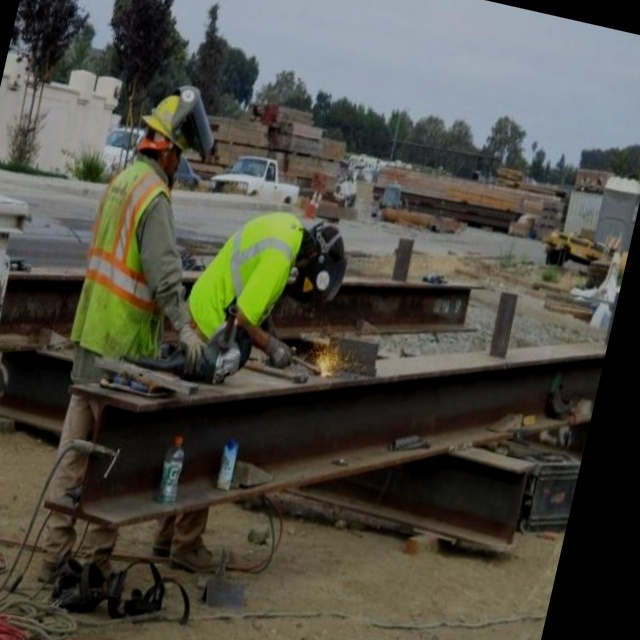Con_Chaleco: (70, 159, 193, 364), (181, 196, 306, 353)
